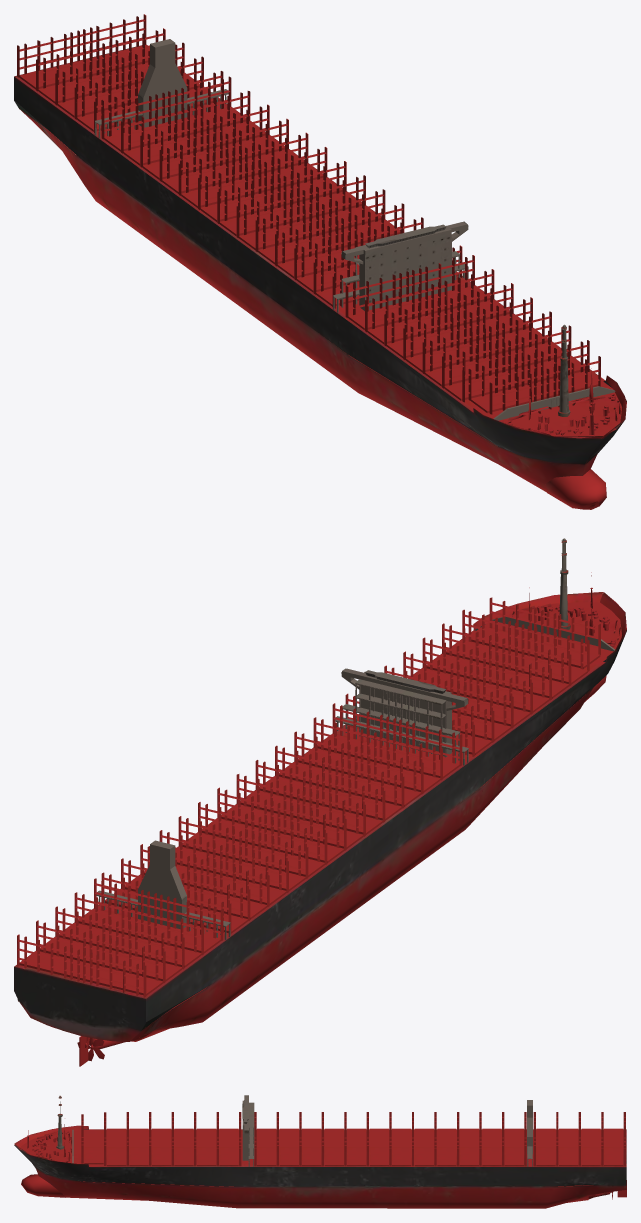
Rendered from nave.glb.
The picture shows the model from 3 angles, top to bottom: view 1: azimuth 30°, elevation 25°; view 2: azimuth 150°, elevation 25°; view 3: azimuth 270°, elevation 25°; orthographic projection. The views are drawn at different scales.
Parts seen in each view (by area): view 1: Object_2; view 2: Object_2; view 3: Object_2.
Boxes of the visible parts, x1,y1,x2,y2 form: Object_2: (14,14,626,509); Object_2: (14,538,626,1066); Object_2: (14,1095,626,1208).
Bounding box in the file's own units: 36.5 × 46.24 × 247.
1 material, 1 textured.
